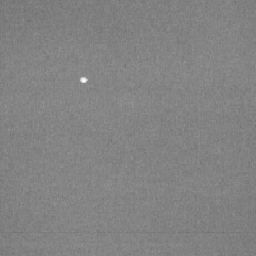Target: (78, 75, 89, 84)
